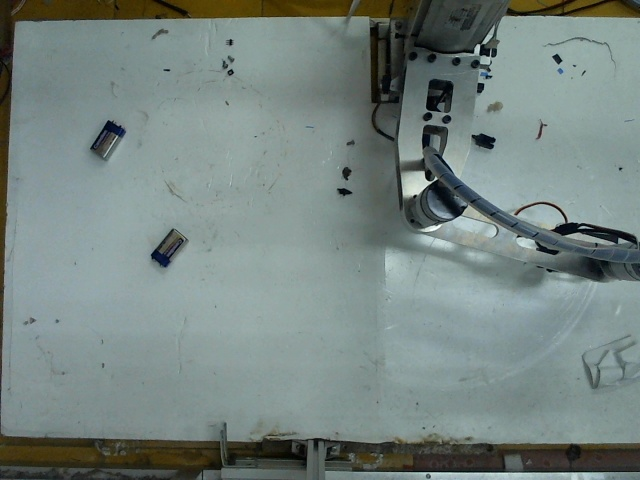battery: (89, 115, 125, 161), (146, 224, 188, 263)
